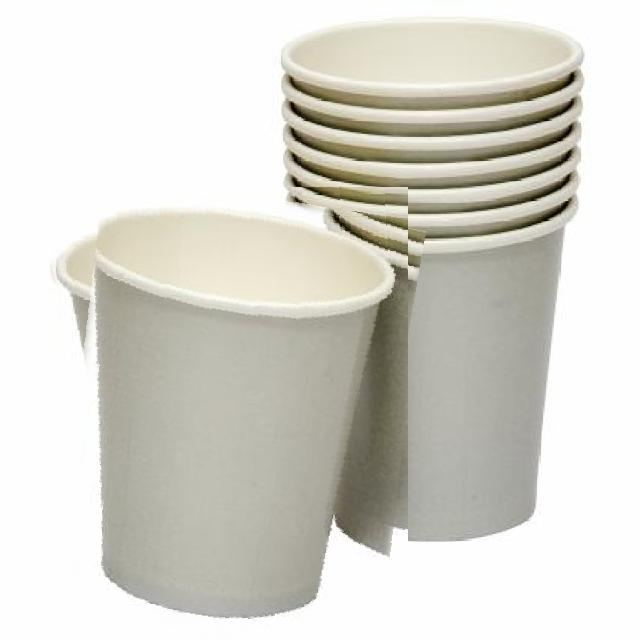non-biodegradable: (46, 187, 408, 640)
